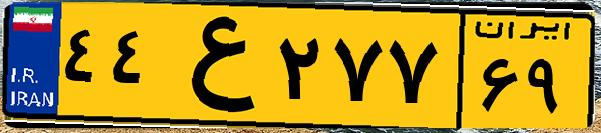2: (270, 28, 330, 110)
4: (57, 26, 110, 100), (110, 28, 158, 98)
6: (475, 38, 525, 113)
7: (385, 28, 445, 110), (330, 28, 385, 110)
9: (525, 38, 570, 115)
ع: (158, 12, 270, 120)
